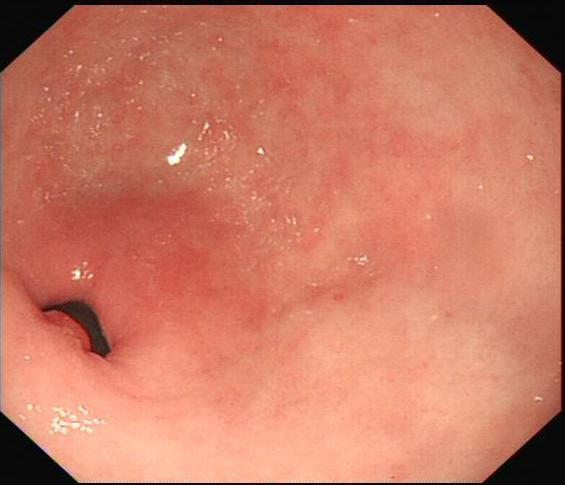Polyp: (36, 306, 98, 356)
